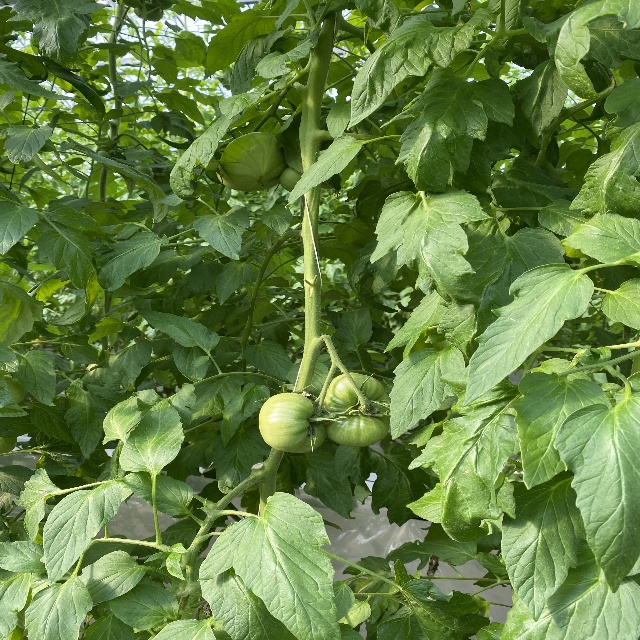b_green: (321, 372, 392, 447), (216, 132, 289, 191), (259, 392, 327, 453), (279, 167, 304, 192)
